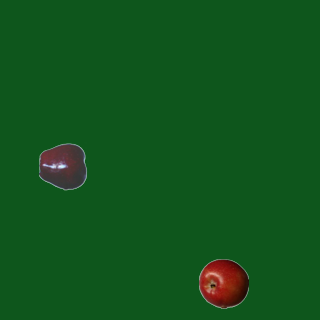Apple Braeburn: (198, 258, 248, 308)
Apple Red Delicious: (38, 141, 88, 191)
